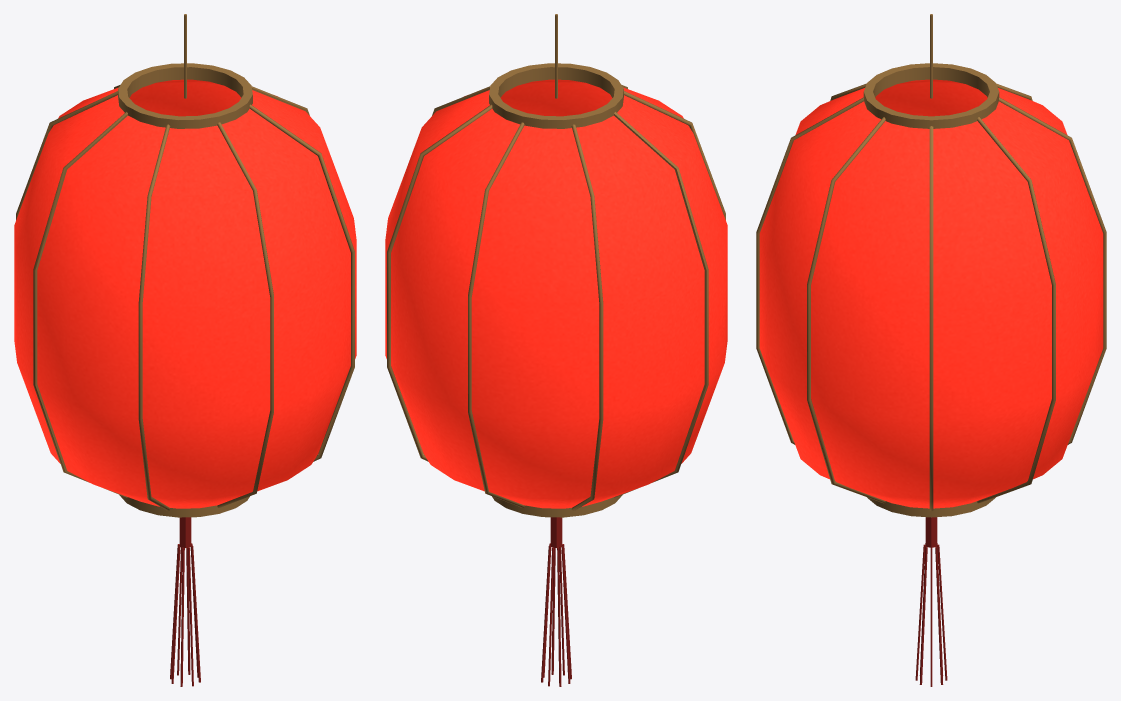
File: den_long_01.glb
3 renders of one model, left to right at view 1: azimuth 30°, elevation 25°; view 2: azimuth 150°, elevation 25°; view 3: azimuth 270°, elevation 25°, orthographic.
Visible parts, largest first — view 1: bamboo_rib_0; view 2: bamboo_rib_0; view 3: bamboo_rib_0.
Part boxes in pixels (x1,y1,x2,y2): bamboo_rib_0: (14,14,356,686); bamboo_rib_0: (385,14,727,686); bamboo_rib_0: (756,14,1106,686).
Size of the model in its own units: 0.306 by 0.6401 by 0.3055.
2 materials, 1 textured.
